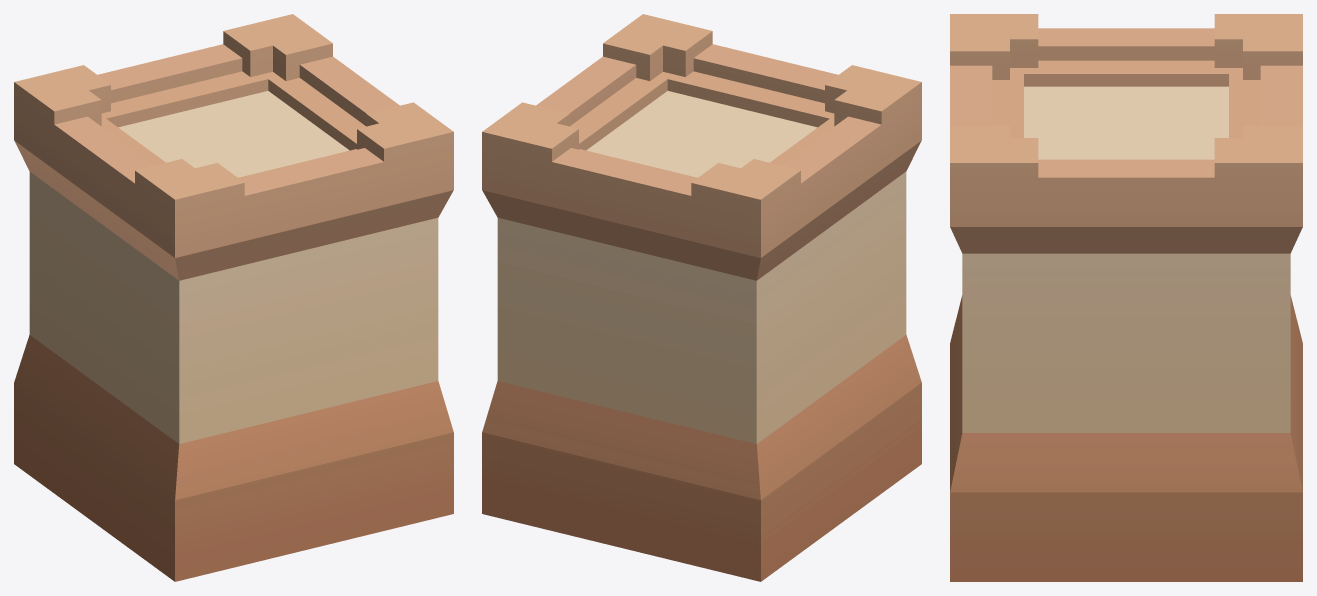
The model's file is kit_tower_square.glb.
3 views of the same model, side by side, from view 1: azimuth 30°, elevation 25°; view 2: azimuth 150°, elevation 25°; view 3: azimuth 270°, elevation 25° (orthographic). The views are drawn at different scales.
Parts seen in each view (by area): view 1: tower-square; view 2: tower-square; view 3: tower-square.
Part boxes in pixels (left/top/right/bottom): tower-square: left=14, top=14, right=453, bottom=581; tower-square: left=482, top=14, right=921, bottom=581; tower-square: left=950, top=14, right=1302, bottom=581.
Bounding box in the file's own units: 10.69 × 14 × 10.69.
1 material, 1 textured.
